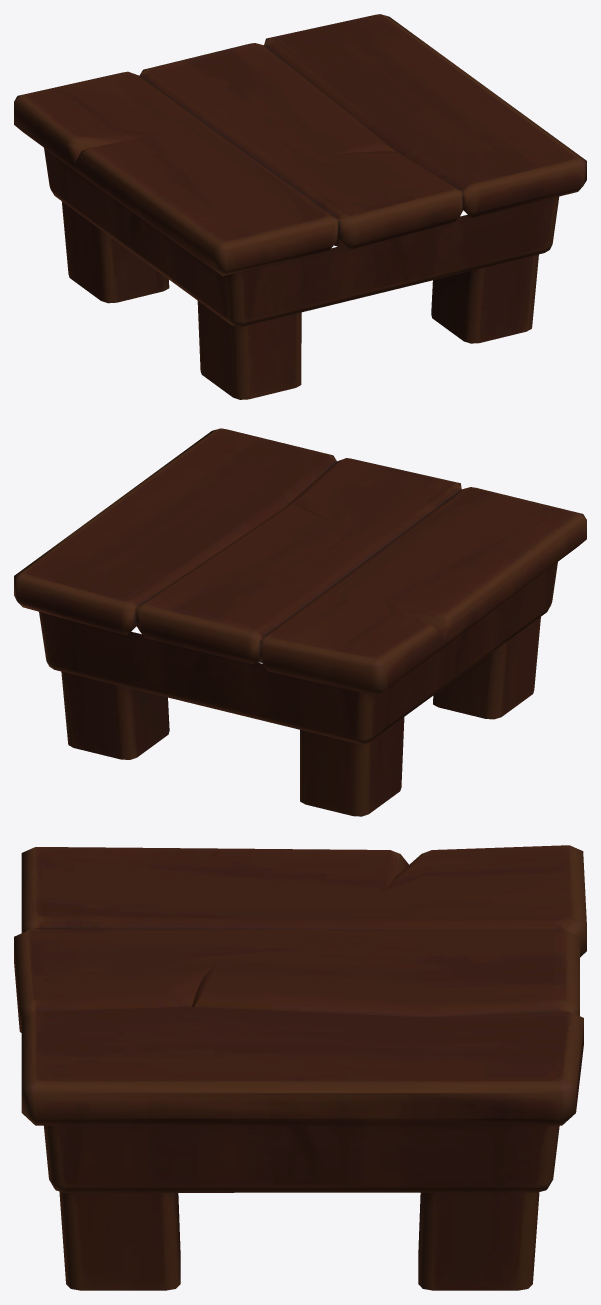
File: m_wizard_countertop_05.fbx
The picture shows the model from 3 angles, top to bottom: view 1: azimuth 30°, elevation 25°; view 2: azimuth 150°, elevation 25°; view 3: azimuth 270°, elevation 25°; orthographic projection. The views are drawn at different scales.
Visible parts, largest first — view 1: m_wizard_countertop_05_b_0; view 2: m_wizard_countertop_05_b_0; view 3: m_wizard_countertop_05_b_0.
Part boxes in pixels (x1,y1,x2,y2): m_wizard_countertop_05_b_0: [14, 14, 586, 399]; m_wizard_countertop_05_b_0: [14, 428, 586, 816]; m_wizard_countertop_05_b_0: [14, 845, 586, 1290].
Size of the model in its own units: 1.23 by 0.5543 by 1.23.
